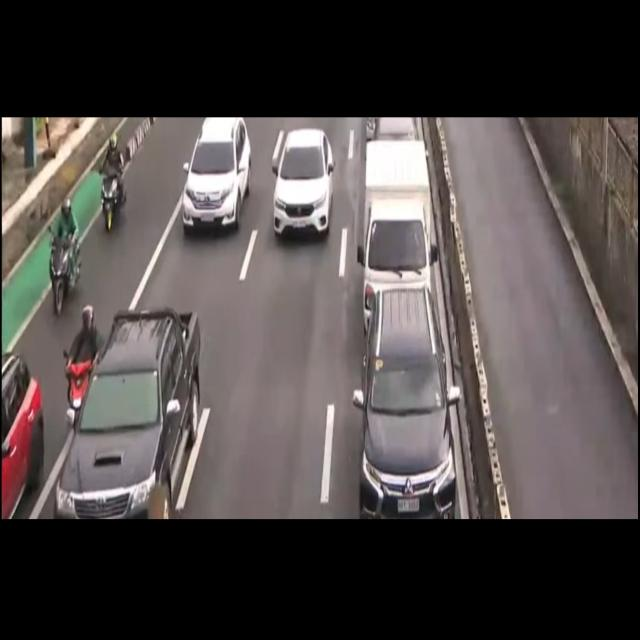Motorcycle: (65, 299, 98, 436), (51, 194, 81, 317), (96, 132, 128, 235)
Pick-up: (359, 140, 435, 350)
SUV: (53, 308, 199, 511), (352, 289, 462, 512), (176, 119, 247, 237)
Sedan: (269, 129, 334, 235)
